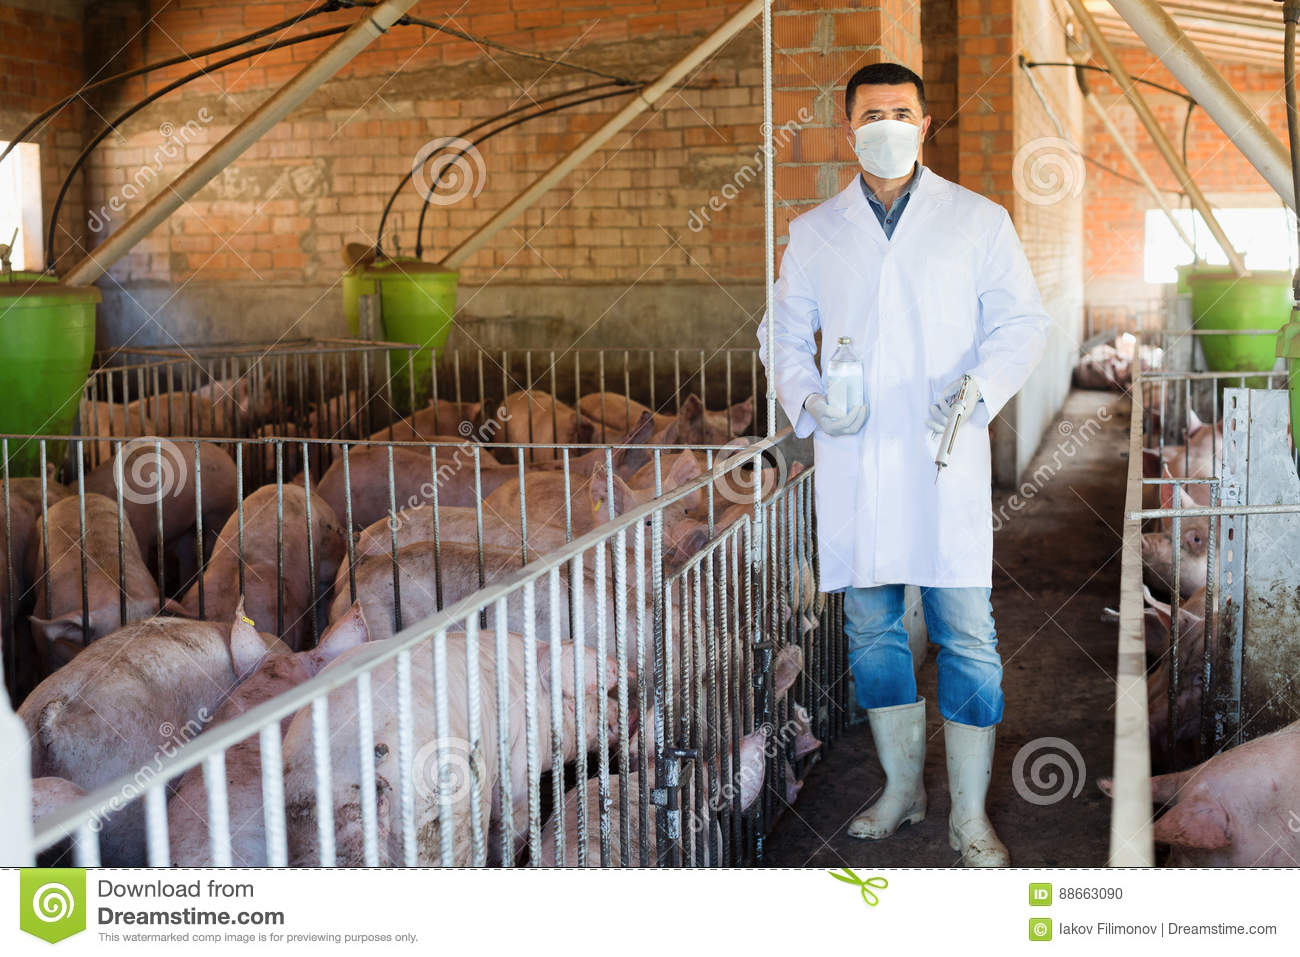mask: (855, 118, 915, 180)
